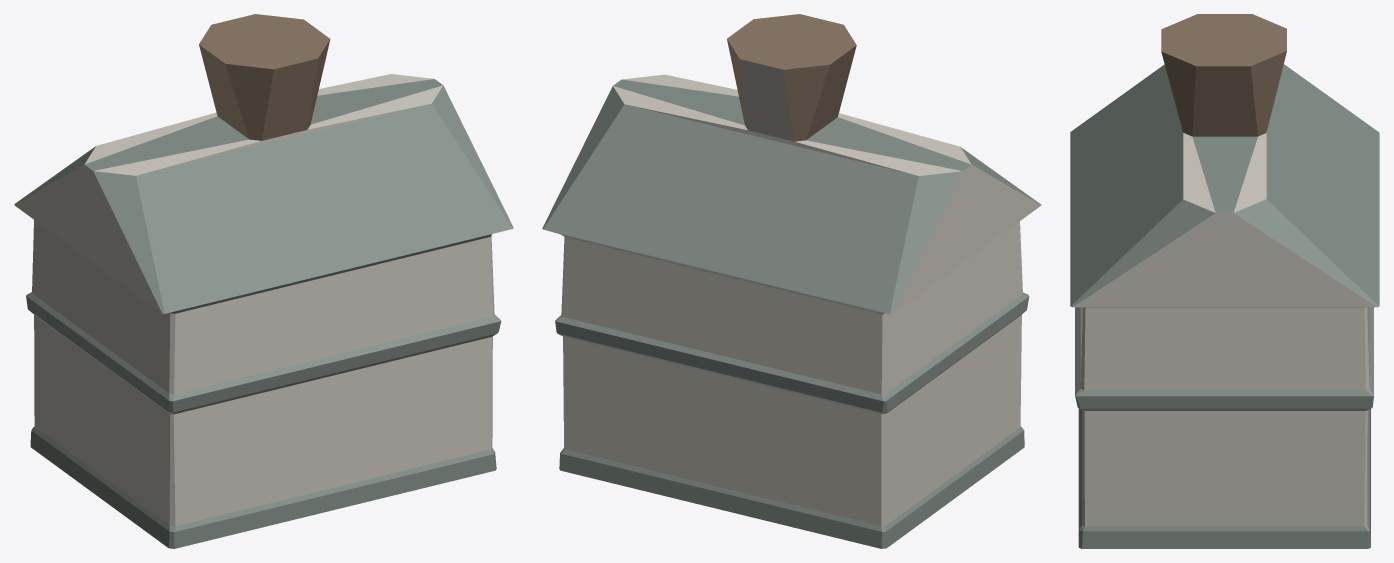
Rendered from loin.glb.
3 views of the same model, side by side, from view 1: azimuth 30°, elevation 25°; view 2: azimuth 150°, elevation 25°; view 3: azimuth 270°, elevation 25° (orthographic). The views are drawn at different scales.
Parts seen in each view (by area): view 1: loin; view 2: loin; view 3: loin.
Part boxes in pixels (box(x1,y1,x2,y2)): loin: box(14, 14, 513, 548); loin: box(542, 14, 1041, 548); loin: box(1070, 14, 1379, 548).
Size of the model in its own units: 0.8431 by 0.954 by 0.6253.
